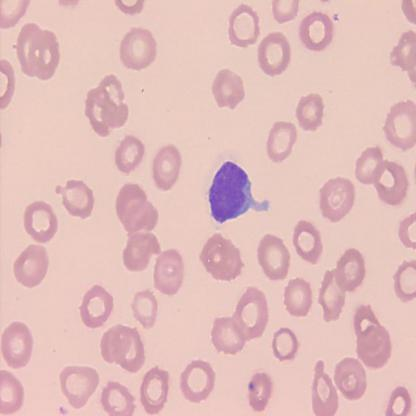Lymphocyte: (208, 159, 270, 224)
